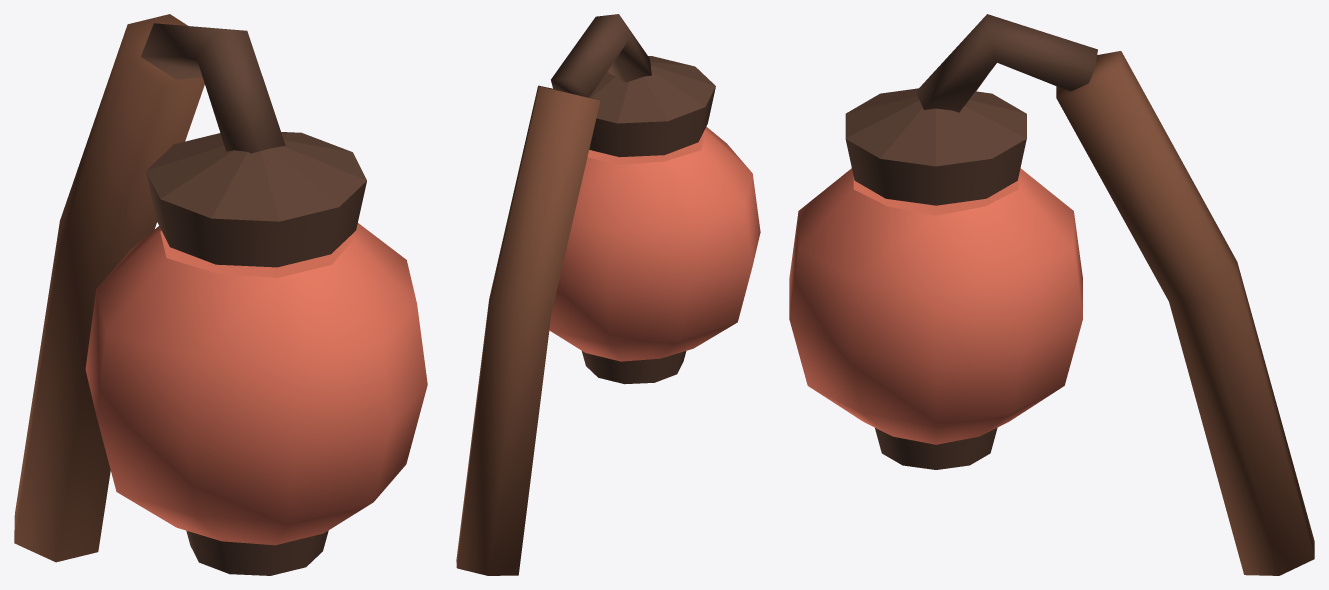
Rendered from PRP_Hand_Lantern_A.fbx.
The picture shows the model from 3 angles, left to right: view 1: azimuth 30°, elevation 25°; view 2: azimuth 150°, elevation 25°; view 3: azimuth 270°, elevation 25°; orthographic projection. The views are drawn at different scales.
Visible parts, largest first — view 1: PRP_Hand_Lantern_A_LOD0; view 2: PRP_Hand_Lantern_A_LOD0; view 3: PRP_Hand_Lantern_A_LOD0.
Part boxes in pixels (x1,y1,x2,y2): PRP_Hand_Lantern_A_LOD0: (14,14,427,575); PRP_Hand_Lantern_A_LOD0: (456,14,760,575); PRP_Hand_Lantern_A_LOD0: (789,14,1314,575).
Size of what is drawn, in the model's own units: 0.1664 by 0.3175 by 0.2755.
